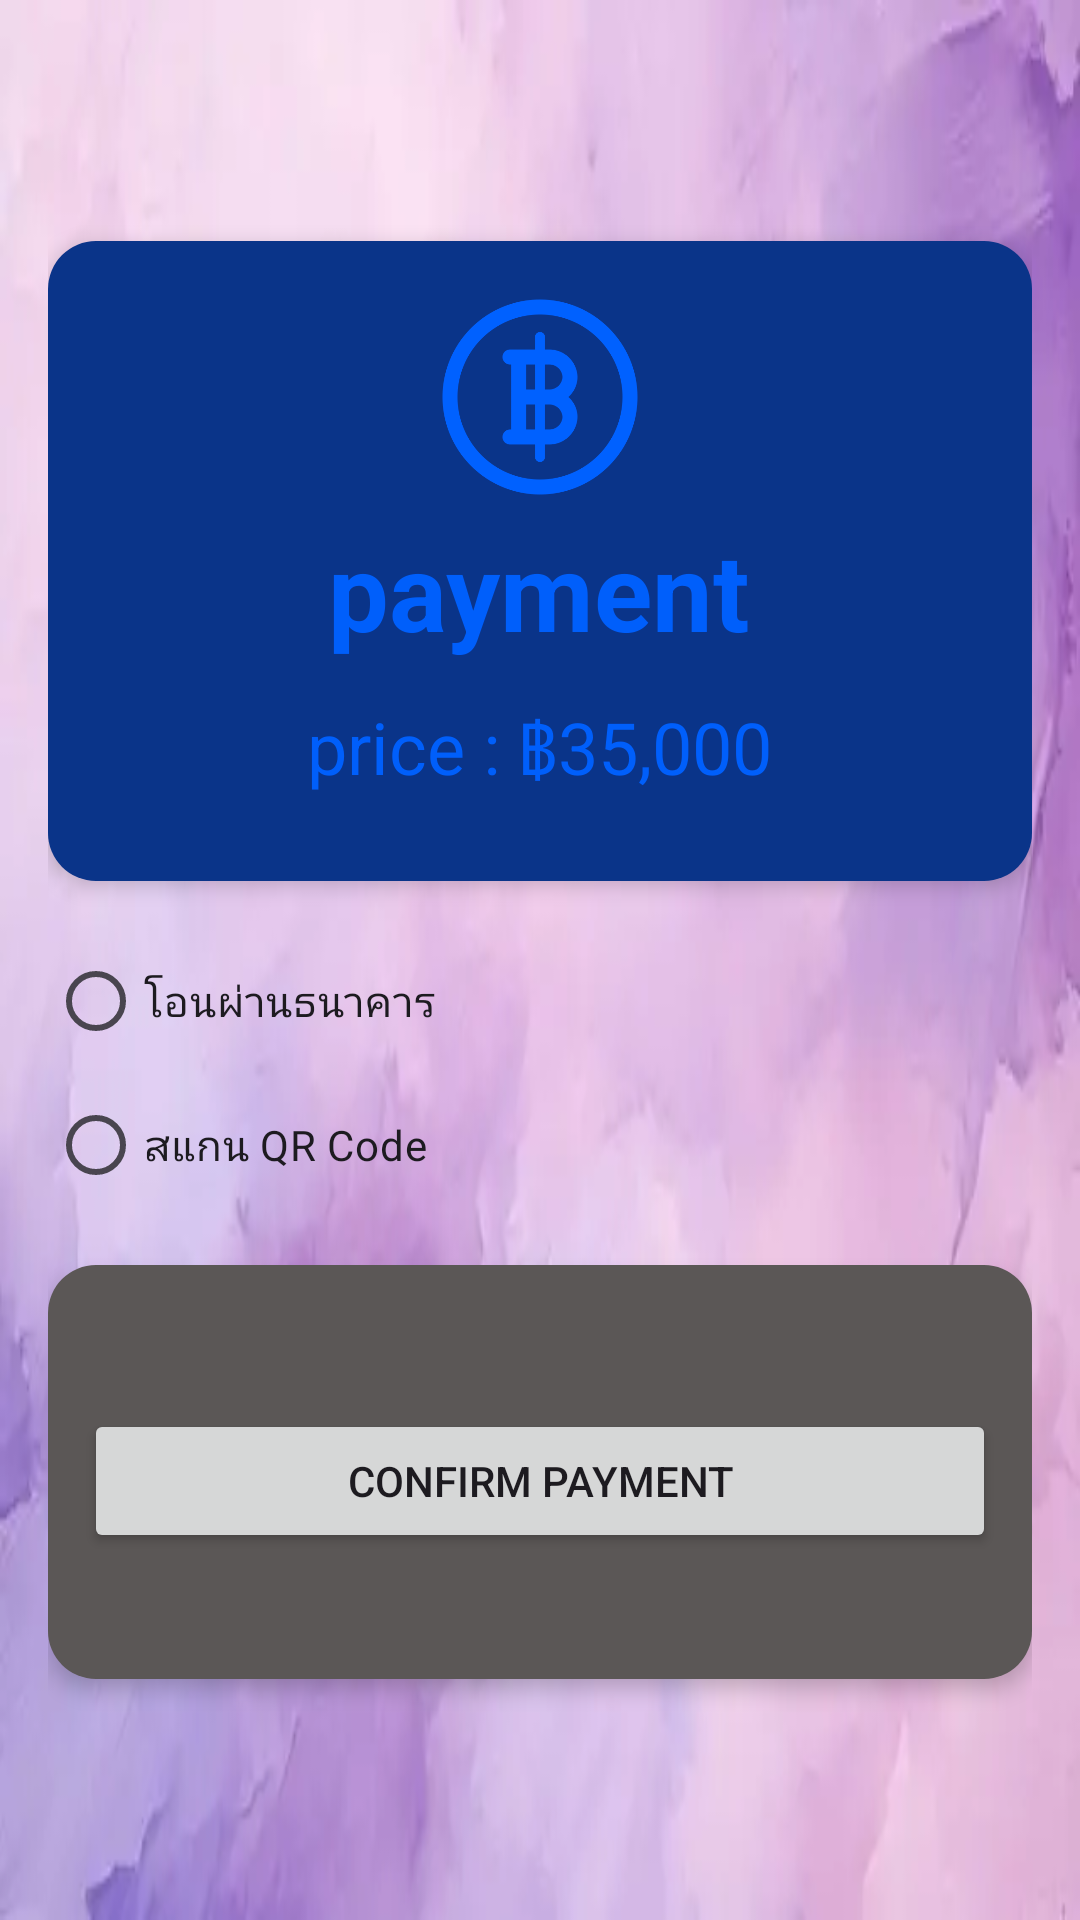

Icons on this 1080*1920 Android screen, each with its box as (x1, y1, x2, y2):
moneyrare: (442, 299, 638, 495)
